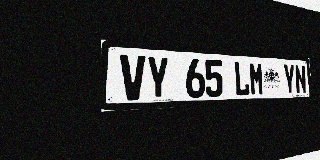5: (205, 59, 223, 98)
6: (185, 58, 205, 98)
L: (234, 61, 250, 96)
M: (249, 62, 264, 96)
N: (294, 65, 307, 94)
V: (120, 54, 146, 101)
Y: (146, 56, 170, 100), (283, 64, 296, 95)
